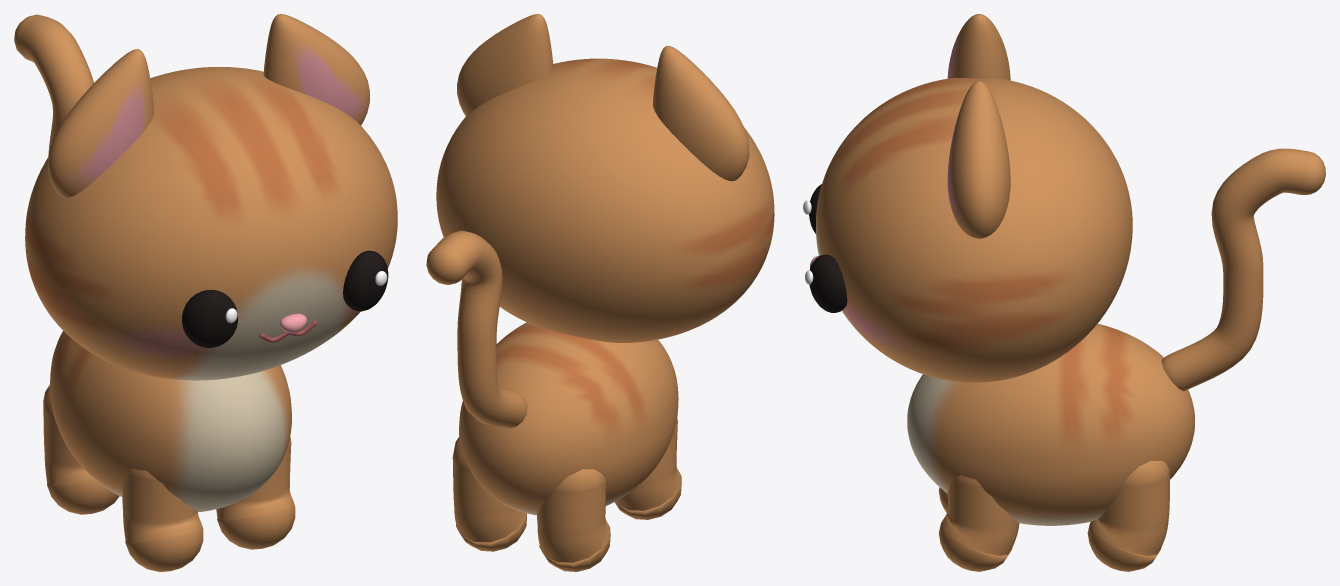
File: cat.glb
3 views of the same model, side by side, from view 1: azimuth 30°, elevation 25°; view 2: azimuth 150°, elevation 25°; view 3: azimuth 270°, elevation 25° (orthographic). The views are drawn at different scales.
Visible parts, largest first — view 1: head_mesh, body_mesh, ear_r, ear_l, leg1_mesh, tail_mesh, leg0_mesh, leg3_mesh, eye_-1, eye_1; view 2: head_mesh, body_mesh, tail_mesh, ear_r, leg3_mesh, ear_l, leg2_mesh, leg1_mesh; view 3: head_mesh, body_mesh, tail_mesh, ear_l, leg2_mesh, leg0_mesh, ear_r, eye_1.
Boxes of the visible parts, x1=… form: head_mesh: x1=25, y1=67, x2=397, y2=380; body_mesh: x1=50, y1=331, x2=291, y2=512; ear_r: x1=47, y1=49, x2=154, y2=197; ear_l: x1=263, y1=14, x2=369, y2=125; leg1_mesh: x1=122, y1=468, x2=203, y2=571; tail_mesh: x1=14, y1=14, x2=93, y2=156; leg0_mesh: x1=216, y1=437, x2=295, y2=549; leg3_mesh: x1=43, y1=385, x2=119, y2=514; eye_-1: x1=182, y1=290, x2=237, y2=347; eye_1: x1=343, y1=250, x2=388, y2=311; head_mesh: x1=436, y1=58, x2=774, y2=342; body_mesh: x1=459, y1=322, x2=678, y2=515; tail_mesh: x1=426, y1=230, x2=527, y2=428; ear_r: x1=652, y1=46, x2=749, y2=181; leg3_mesh: x1=537, y1=469, x2=610, y2=571; ear_l: x1=457, y1=14, x2=553, y2=115; leg2_mesh: x1=452, y1=437, x2=526, y2=551; leg1_mesh: x1=614, y1=418, x2=681, y2=519; head_mesh: x1=816, y1=77, x2=1132, y2=382; body_mesh: x1=907, y1=323, x2=1194, y2=525; tail_mesh: x1=1161, y1=148, x2=1325, y2=391; ear_l: x1=947, y1=81, x2=1010, y2=238; leg2_mesh: x1=1087, y1=460, x2=1169, y2=571; leg0_mesh: x1=938, y1=475, x2=1019, y2=571; ear_r: x1=947, y1=14, x2=1010, y2=80; eye_1: x1=809, y1=254, x2=847, y2=312.
Bounding box in the file's own units: 0.7616 × 1.14 × 1.09.
